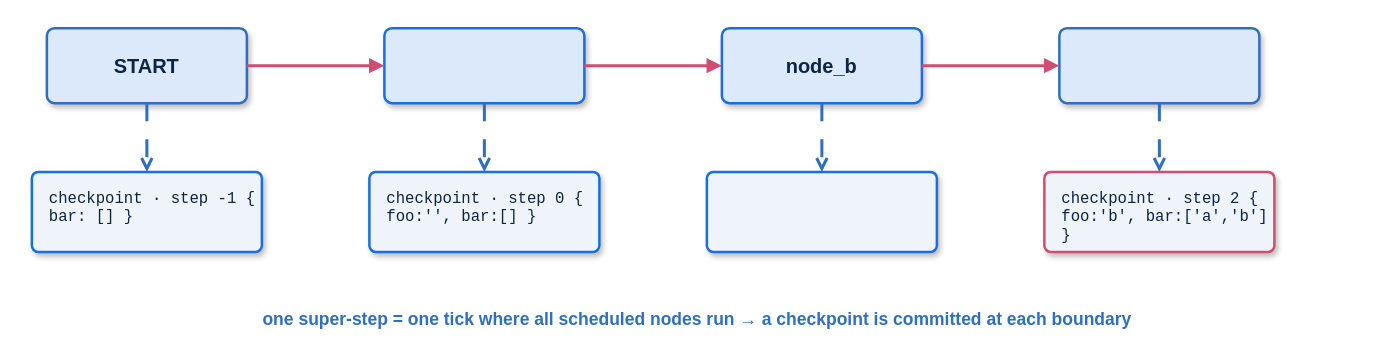
Image size: 1393x356. Some labels were removed from this diagram. Here are the shapes that lost their labels. From the top down, the centre of each, then its label:
point 485,66: node_a
point 1160,66: END
point 822,213: checkpoint · step 1 { foo:'a', bar:['a'] }
